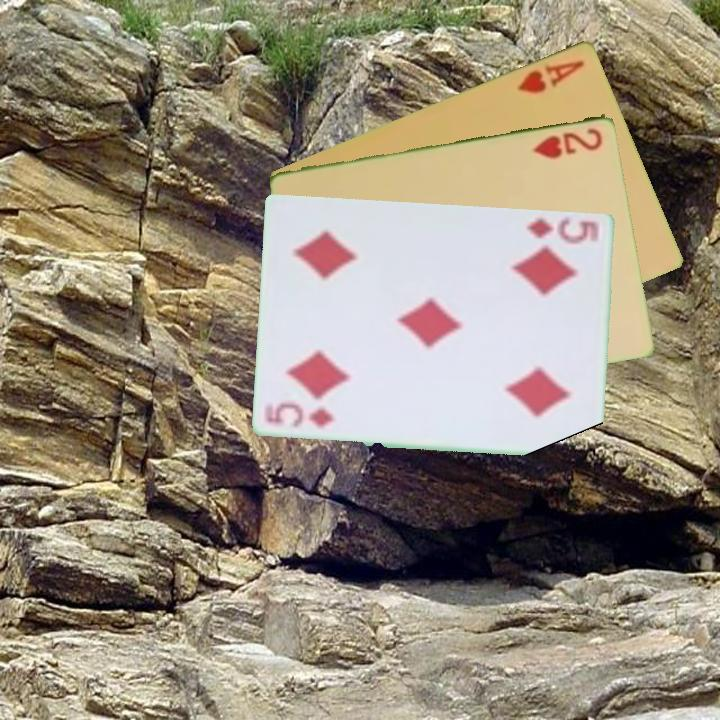2h: (529, 124, 606, 161)
5d: (523, 213, 603, 246), (262, 403, 338, 431)
Ah: (514, 56, 588, 96)
